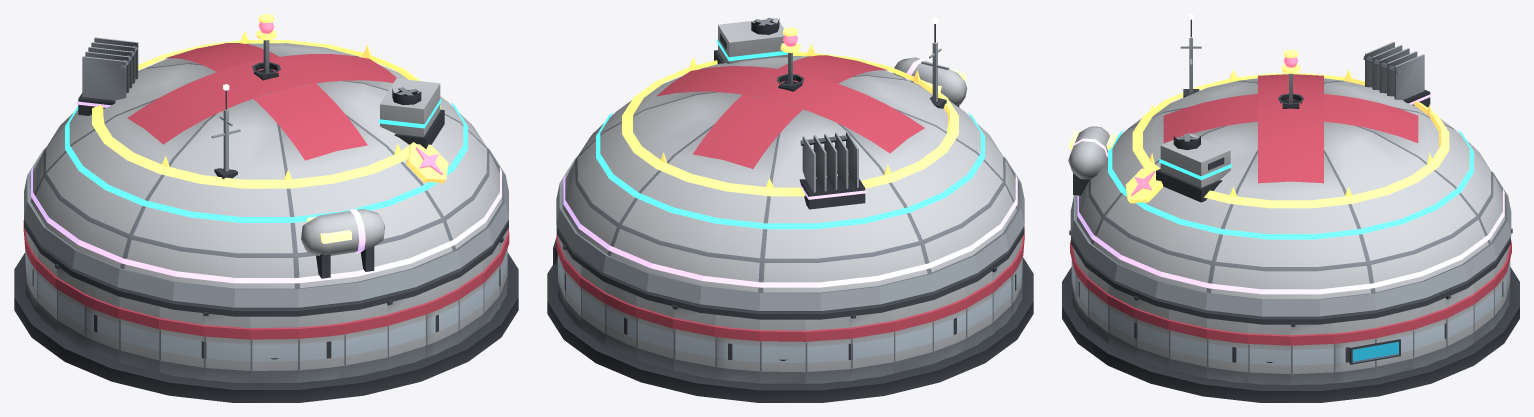
The model's file is medical.glb.
3 views of the same model, side by side, from view 1: azimuth 30°, elevation 25°; view 2: azimuth 150°, elevation 25°; view 3: azimuth 270°, elevation 25° (orthographic). The views are drawn at different scales.
Parts seen in each view (by area): view 1: Roof, Base, L5, L4, L3, Wall_21, Wall_20, Wall_22, Wall_19, Wall_23, Wall_18, Wall_24 (+21 smaller); view 2: Roof, Base, L3, L5, L4, Wall_10, Wall_11, Wall_09, Wall_12, Wall_08, Wall_13, Wall_07 (+20 smaller); view 3: Roof, Base, L3, L5, L4, Wall_00, Wall_31, Wall_30, Wall_29, Wall_01, Wall_28, Wall_03 (+18 smaller).
Part boxes in pixels (x1,y1,x2,y2): Roof: (24, 43, 508, 316); Base: (14, 252, 518, 402); L5: (92, 14, 448, 188); L4: (77, 37, 384, 278); L3: (65, 62, 467, 222); Wall_21: (250, 316, 298, 383); Wall_20: (203, 312, 250, 383); Wall_22: (298, 311, 344, 382); Wall_19: (159, 306, 203, 379); Wall_23: (344, 303, 387, 377); Wall_18: (118, 296, 159, 372); Wall_24: (387, 292, 426, 369); Roof: (556, 55, 1024, 319); Base: (547, 257, 1033, 402); L3: (596, 17, 984, 229); L5: (622, 27, 958, 196); L4: (799, 57, 967, 209); Wall_10: (760, 319, 805, 383); Wall_11: (805, 316, 851, 383); Wall_09: (715, 314, 759, 383); Wall_12: (851, 310, 894, 380); Wall_08: (672, 305, 715, 378); Wall_13: (893, 300, 933, 373); Wall_07: (635, 296, 673, 370); Roof: (1071, 74, 1510, 324); Base: (1062, 267, 1519, 402); L3: (1108, 93, 1473, 239); L5: (1125, 49, 1449, 208); L4: (1068, 42, 1431, 195); Wall_00: (1291, 323, 1333, 385); Wall_31: (1248, 323, 1290, 385); Wall_30: (1206, 318, 1248, 383); Wall_29: (1168, 309, 1206, 378); Wall_01: (1333, 318, 1375, 383); Wall_28: (1134, 296, 1168, 369); Wall_03: (1413, 297, 1447, 369).
Size of the model in its own units: 8.72 by 5.33 by 8.72.
